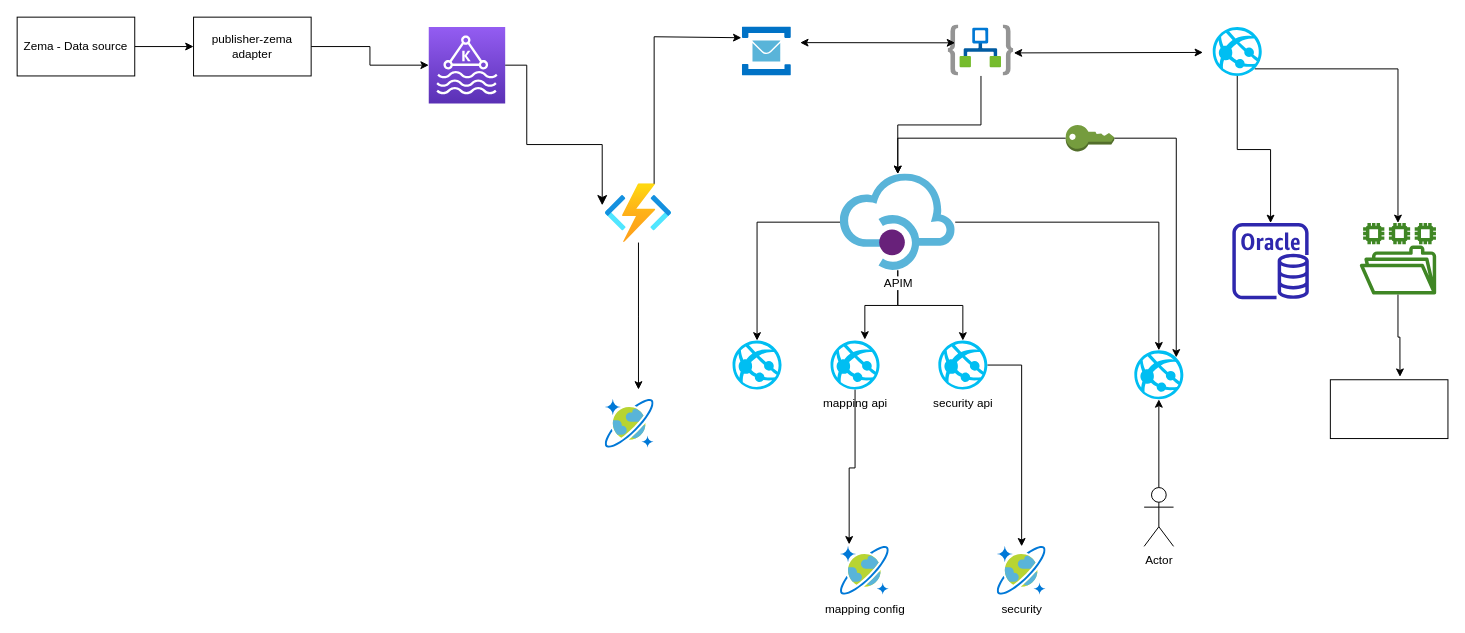
Image size: 1465x633. Some labels were removed from this diagram. Here are the shapes that lost their labels. From the top down, the centre of each, then its label:
point (756, 364): price curve api
point (1158, 374): react applicaiton
point (629, 423): price curve
point (1388, 409): Aligne Tool - ETRM tool
